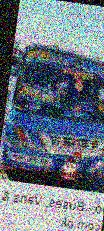bus: (0, 39, 104, 185)
